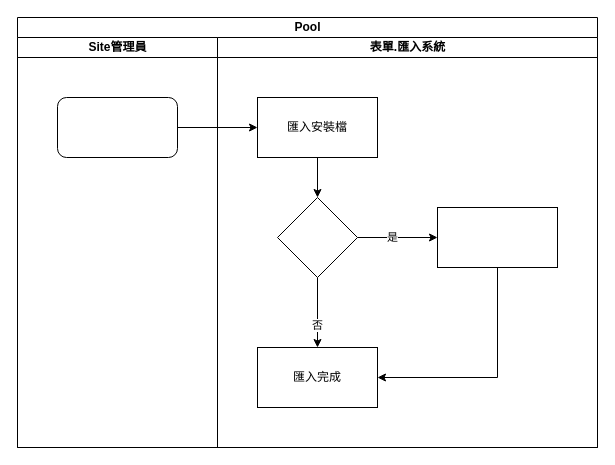
Image size: 615x465. Some labels were removed from this diagram. The shapes that lost their labels are listed below. From the top down, each one's centre as x and y in pixels, then its label:
At pixel 117 127: "點擊按鈕.匯入".
At pixel 317 237: "為主專案".
At pixel 497 237: "專案名稱 / 公司名稱 各語系比對異動".
